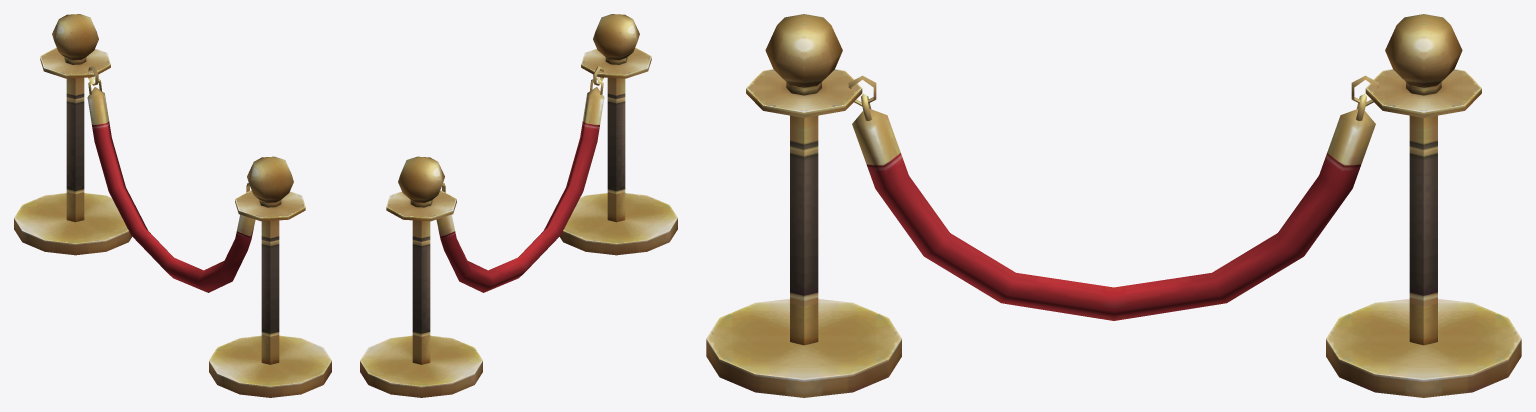
File: my_highlander_01_fence_01.glb
3 views of the same model, side by side, from view 1: azimuth 30°, elevation 25°; view 2: azimuth 150°, elevation 25°; view 3: azimuth 270°, elevation 25° (orthographic). The views are drawn at different scales.
Parts seen in each view (by area): view 1: my_highlander_01_fence_01; view 2: my_highlander_01_fence_01; view 3: my_highlander_01_fence_01.
Part boxes in pixels (box(x1,y1,x2,y2)): my_highlander_01_fence_01: box(14, 14, 331, 397); my_highlander_01_fence_01: box(360, 14, 677, 397); my_highlander_01_fence_01: box(706, 14, 1521, 397).
Size of the model in its own units: 0.00258 by 0.00498 by 0.0108.
1 material, 1 textured.
